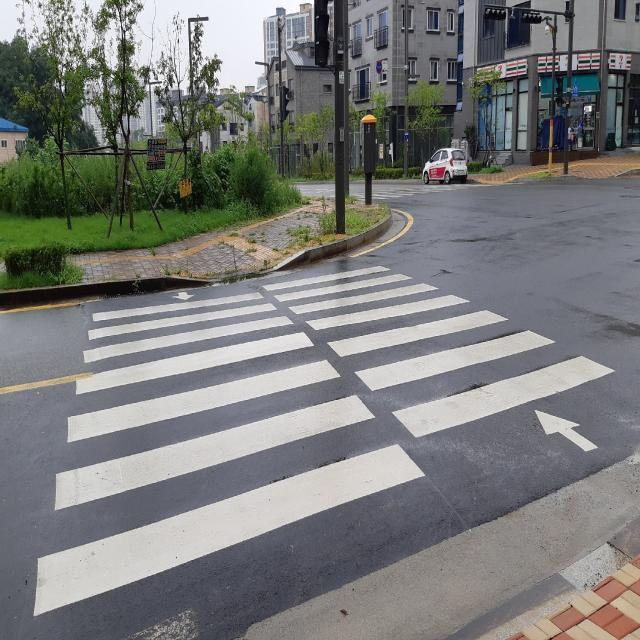횡단보도: (31, 264, 619, 625)
